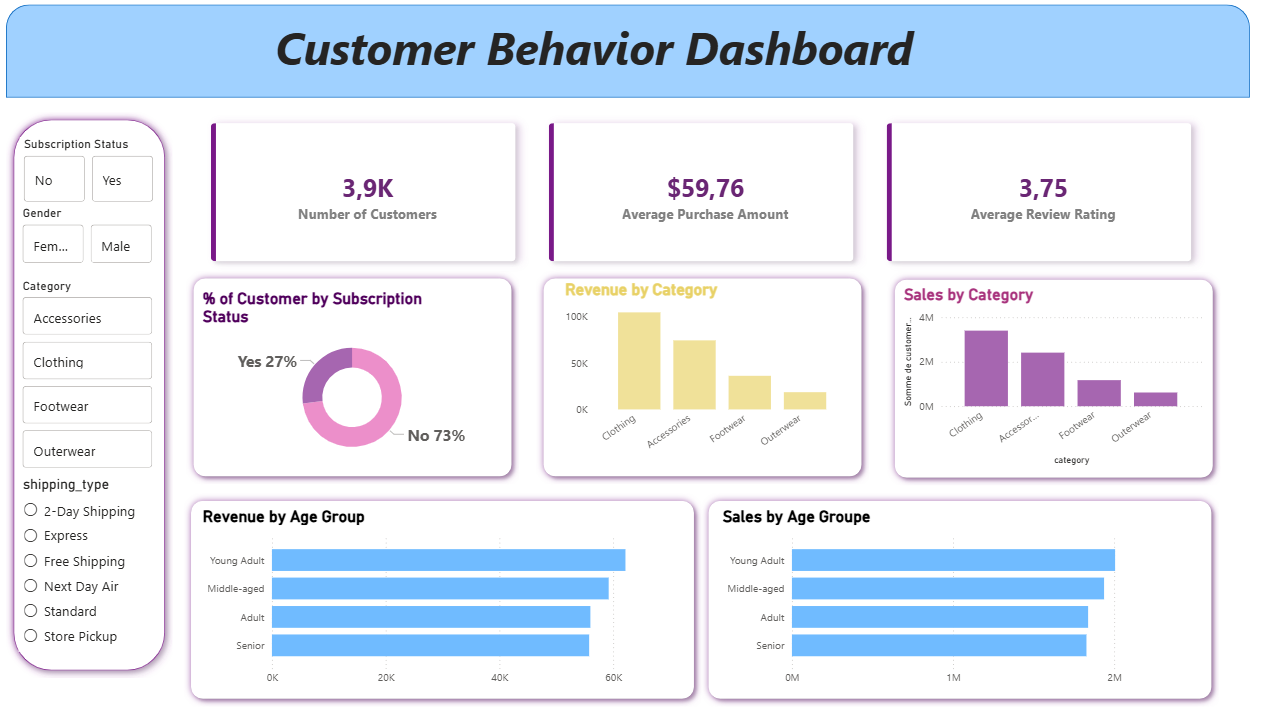

The dashboard page shown, as its layout file describes it:
{"tool":"powerbi","page":{"name":"Page 1","canvas":[1520,880],"ordinal":0},"visuals":[{"type":"cardVisual","fields":{"Data":["public customer.Number of Customers","public customer.Average Purchase Amount","public customer.Average Review Rating"]},"box":[224.2,123.9,1239.5,231.2],"z":0},{"type":"shape","box":[12.5,15.3,1487.4,111.4],"z":1000},{"type":"textbox","box":[80.8,25.1,1268.7,91.9],"z":2000},{"type":"shape","box":[227,332.8,398.3,254.9],"z":3000},{"type":"donutChart","title":"% of Customer by  Subscription Status","fields":{"Category":["public customer.subscription_status"],"Y":["CountNonNull(public customer.customer_id)"]},"box":[242.3,355.1,367.7,210.3],"z":4000},{"type":"shape","box":[12.5,143.4,199.2,676.8],"z":5000},{"type":"advancedSlicerVisual","title":"Subscription Status","fields":{"Values":["public customer.subscription_status"]},"box":[27.9,172.7,164.3,83.6],"z":6000},{"type":"advancedSlicerVisual","title":"Gender","fields":{"Values":["public customer.gender"]},"box":[26.5,256.3,165.7,73.8],"z":7000},{"type":"advancedSlicerVisual","title":"Category","fields":{"Values":["public customer.category"]},"box":[26.5,342.6,165.7,235.4],"z":8000},{"type":"listSlicer","fields":{"Values":["public customer.shipping_type"]},"box":[26.5,578,165.7,210.3],"z":9000},{"type":"shape","box":[646.2,332.8,398.3,254.9],"z":10000},{"type":"shape","box":[1065.4,334.2,398.3,254.9],"z":11000},{"type":"clusteredColumnChart","title":"Revenue by Category","fields":{"Y":["Sum(public customer.purchase_amount)"],"Category":["public customer.category"]},"box":[675.4,345.4,351,220],"z":12000},{"type":"clusteredColumnChart","title":"Sales by Category","fields":{"Y":["Sum(public customer.customer_id)"],"Category":["public customer.category"]},"box":[1080.7,351,366.3,220],"z":13000},{"type":"shape","box":[223.9,599.2,619.3,254.8],"z":13003},{"type":"clusteredBarChart","title":"Revenue by Age Group","fields":{"Y":["Sum(public customer.purchase_amount)"],"Category":["public customer.age_group"]},"box":[242.5,616.2,579.1,222.4],"z":13005},{"type":"shape","box":[843.2,599.2,619.3,254.8],"z":13006},{"type":"clusteredBarChart","title":"Sales by Age Groupe","fields":{"Y":["Sum(public customer.customer_id)"],"Category":["public customer.age_group"]},"box":[863.3,616.2,583.8,222.4],"z":13007}]}

Visuals, with their boxes in screenshot pixels (x1, y1, x2, y2), scaled from the page's 1520x880 canvas onto the 1267x722 screenshot:
cardVisual - public customer.Number of Customers x public customer.Average Purchase Amount: <region>187, 102, 1220, 291</region>
shape: <region>10, 13, 1250, 104</region>
textbox: <region>67, 21, 1125, 96</region>
shape: <region>189, 273, 521, 482</region>
"% of Customer by  Subscription Status" donutChart: <region>202, 291, 508, 464</region>
shape: <region>10, 118, 176, 673</region>
"Subscription Status" advancedSlicerVisual: <region>23, 142, 160, 210</region>
"Gender" advancedSlicerVisual: <region>22, 210, 160, 271</region>
"Category" advancedSlicerVisual: <region>22, 281, 160, 474</region>
listSlicer - public customer.shipping_type: <region>22, 474, 160, 647</region>
shape: <region>539, 273, 871, 482</region>
shape: <region>888, 274, 1220, 483</region>
"Revenue by Category" clusteredColumnChart: <region>563, 283, 856, 464</region>
"Sales by Category" clusteredColumnChart: <region>901, 288, 1206, 468</region>
shape: <region>187, 492, 703, 701</region>
"Revenue by Age Group" clusteredBarChart: <region>202, 506, 685, 688</region>
shape: <region>703, 492, 1219, 701</region>
"Sales by Age Groupe" clusteredBarChart: <region>720, 506, 1206, 688</region>
